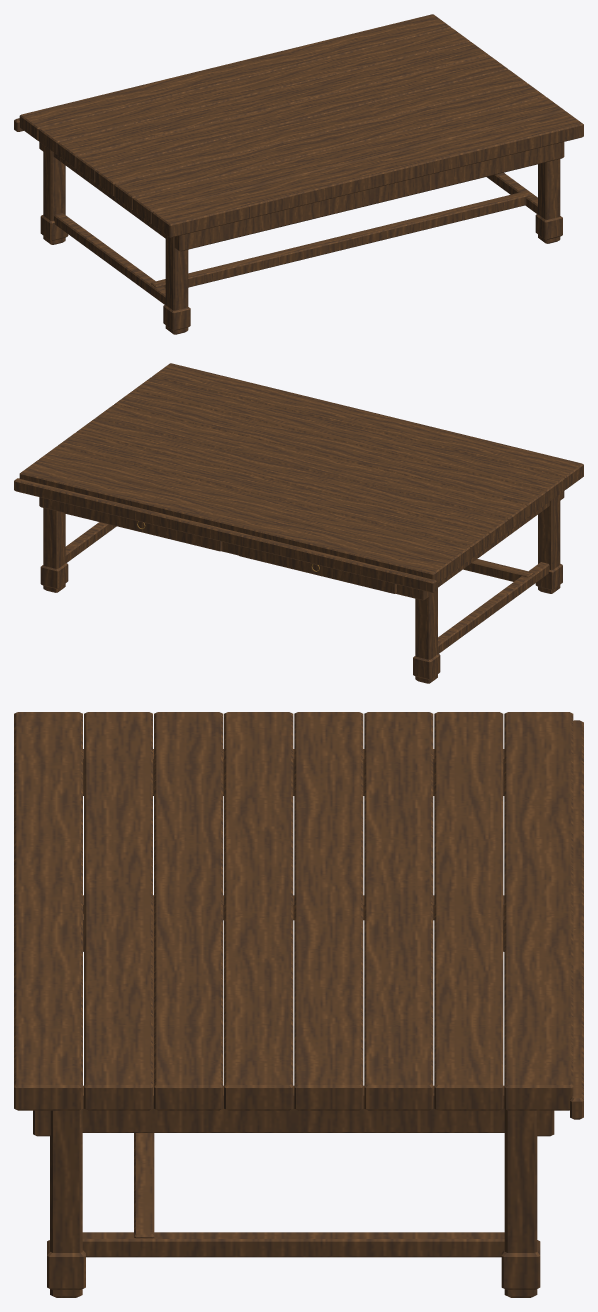
File: WritingDesk.obj
3 views of the same model, one above another, from view 1: azimuth 30°, elevation 25°; view 2: azimuth 150°, elevation 25°; view 3: azimuth 270°, elevation 25° (orthographic). The views are drawn at different scales.
Visible parts, largest first — view 1: Desk_Timber; view 2: Desk_Timber; view 3: Desk_Timber.
Boxes of the visible parts, <box> form: Desk_Timber: <box>14,14,583,334</box>; Desk_Timber: <box>14,363,583,683</box>; Desk_Timber: <box>14,712,583,1297</box>.
Size of the model in its own units: 2.89 by 0.8 by 1.83.
Materials: 4 (4 with a texture image).
